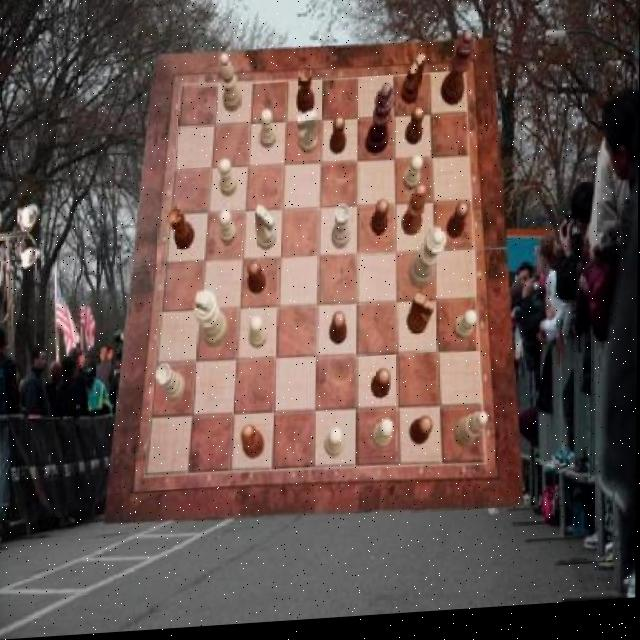bishop: (402, 191, 427, 243), (240, 428, 263, 464)
black-bishop: (364, 88, 395, 161)
black-king: (401, 59, 426, 111), (407, 299, 437, 342)
black-knight: (447, 208, 468, 245), (404, 113, 424, 151), (328, 120, 345, 160), (410, 423, 433, 452), (370, 204, 388, 241), (370, 373, 390, 405), (248, 263, 266, 298), (330, 316, 347, 351)
black-pawn: (439, 37, 474, 113)
black-queen: (167, 208, 194, 254), (297, 70, 315, 118)
black-rook: (219, 57, 243, 116), (454, 419, 488, 457)
white-bishop: (192, 293, 227, 352)
white-king: (296, 114, 318, 158), (256, 207, 277, 253)
white-knight: (402, 161, 422, 197), (259, 113, 276, 154), (454, 318, 478, 347), (372, 426, 395, 456), (248, 320, 267, 355), (220, 161, 237, 200), (219, 212, 237, 248), (323, 431, 343, 463)
white-pawn: (408, 234, 446, 295)
white-queen: (156, 365, 185, 405), (331, 209, 351, 256)
